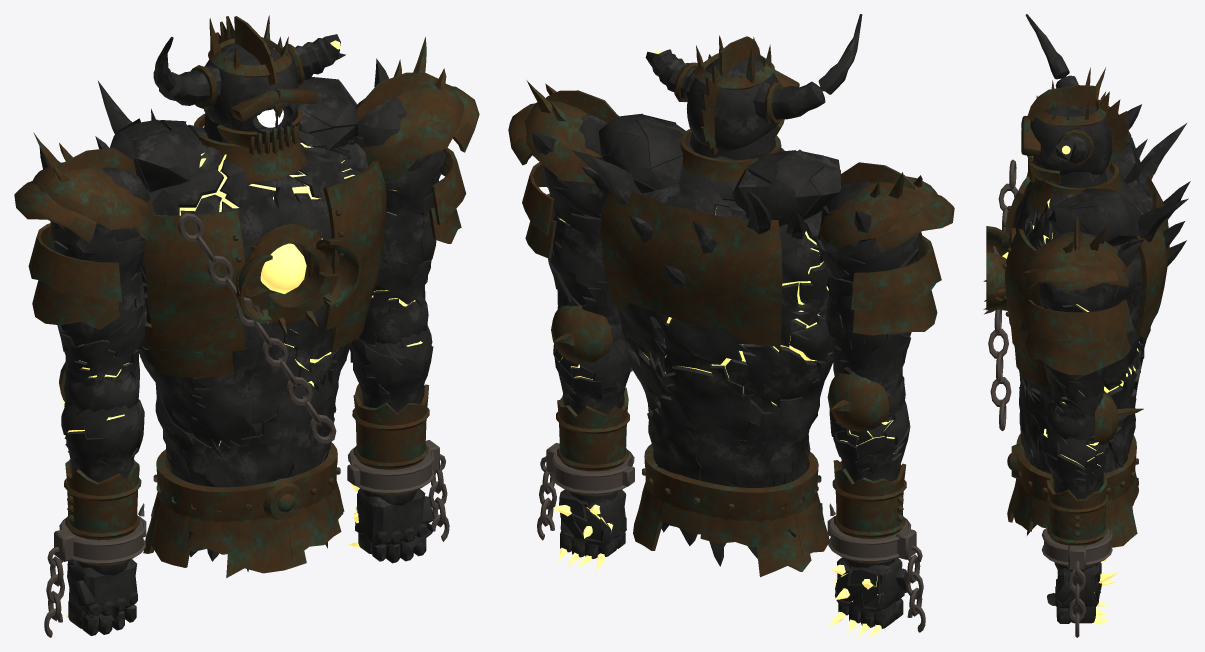
The model's file is colossus.glb.
3 views of the same model, side by side, from view 1: azimuth 30°, elevation 25°; view 2: azimuth 150°, elevation 25°; view 3: azimuth 270°, elevation 25° (orthographic). The views are drawn at different scales.
Visible parts, largest first — view 1: Colossus_Torso, Colossus_UpperArm_L, Colossus_UpperArm_R, Colossus_Forearm_L, Colossus_Forearm_R, Colossus_Head, Colossus_Hand_R, Colossus_Hand_L, Colossus_ShutterR, Colossus_Core, Colossus_ShutterL; view 2: Colossus_Torso, Colossus_UpperArm_L, Colossus_UpperArm_R, Colossus_Forearm_L, Colossus_Forearm_R, Colossus_Head, Colossus_Hand_L, Colossus_Hand_R; view 3: Colossus_Torso, Colossus_UpperArm_R, Colossus_Forearm_R, Colossus_Head, Colossus_Hand_R, Colossus_ShutterR, Colossus_ShutterL, Colossus_UpperArm_L.
Part boxes in pixels (left/top/right/bottom): Colossus_Torso: left=95, top=36, right=386, bottom=577; Colossus_UpperArm_L: left=14, top=132, right=155, bottom=420; Colossus_UpperArm_R: left=353, top=37, right=479, bottom=347; Colossus_Forearm_L: left=44, top=351, right=146, bottom=637; Colossus_Forearm_R: left=347, top=297, right=449, bottom=541; Colossus_Head: left=153, top=15, right=345, bottom=154; Colossus_Hand_R: left=348, top=483, right=433, bottom=563; Colossus_Hand_L: left=66, top=559, right=137, bottom=635; Colossus_ShutterR: left=308, top=229, right=362, bottom=308; Colossus_Core: left=260, top=243, right=306, bottom=293; Colossus_ShutterL: left=235, top=245, right=272, bottom=323; Colossus_Torso: left=571, top=113, right=840, bottom=577; Colossus_UpperArm_L: left=816, top=162, right=954, bottom=424; Colossus_UpperArm_R: left=508, top=80, right=625, bottom=343; Colossus_Forearm_L: left=827, top=372, right=925, bottom=632; Colossus_Forearm_R: left=537, top=305, right=634, bottom=540; Colossus_Head: left=645, top=14, right=862, bottom=160; Colossus_Hand_L: left=828, top=557, right=910, bottom=637; Colossus_Hand_R: left=553, top=489, right=626, bottom=570; Colossus_Torso: left=983, top=123, right=1190, bottom=547; Colossus_UpperArm_R: left=1020, top=216, right=1141, bottom=445; Colossus_Forearm_R: left=1041, top=391, right=1143, bottom=637; Colossus_Head: left=1021, top=14, right=1129, bottom=187; Colossus_Hand_R: left=1047, top=557, right=1118, bottom=624; Colossus_ShutterR: left=986, top=252, right=1006, bottom=310; Colossus_ShutterL: left=986, top=226, right=1011, bottom=255; Colossus_UpperArm_L: left=1026, top=67, right=1141, bottom=177.
Bounding box in the file's own units: 17.18 × 21.97 × 8.23.
Materials: 5 (2 with a texture image).
